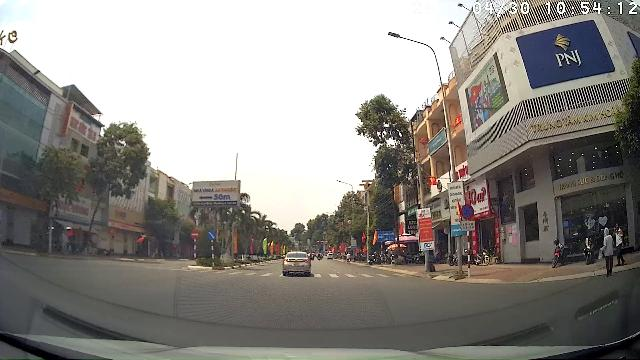130-cam-dung-va-do-xe: (462, 204, 474, 220)
